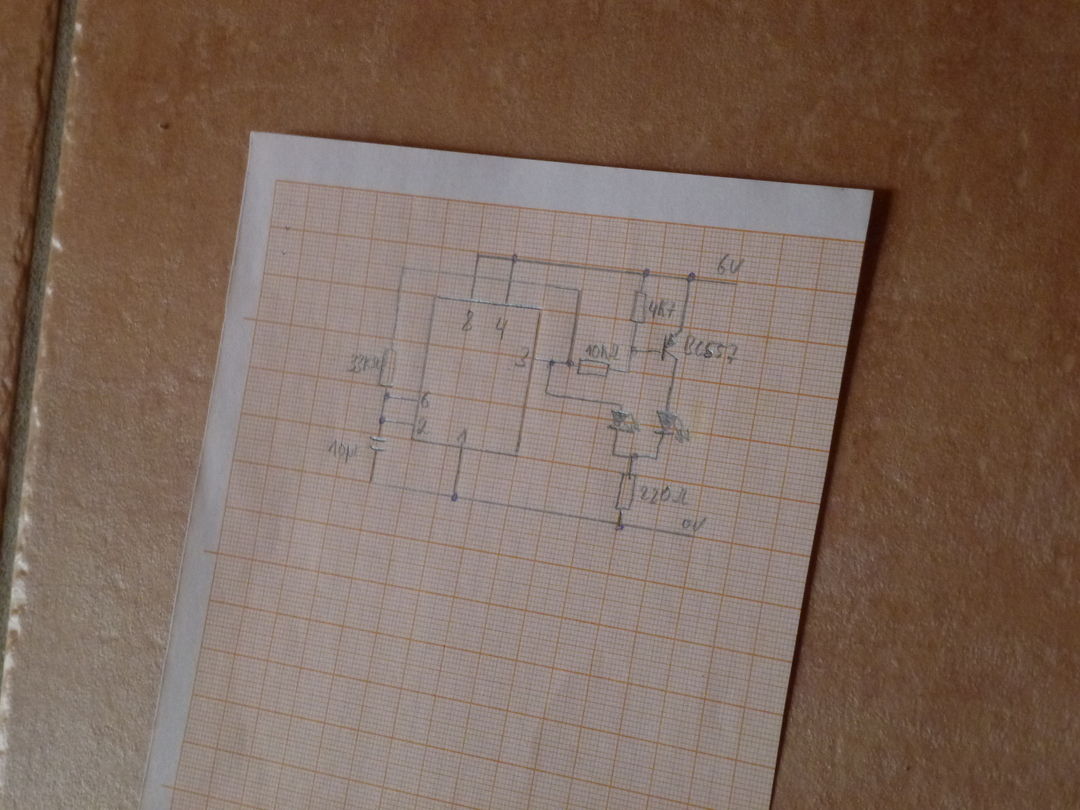capacitor.unpolarized: (367, 434, 389, 454)
crossover: (504, 275, 519, 287), (468, 271, 484, 282)
diode.light_emitting: (653, 410, 691, 444), (605, 409, 641, 435)
integrated_cricuit.ne555: (410, 295, 543, 458)
junction: (611, 519, 627, 533), (508, 253, 522, 266), (685, 271, 698, 284), (627, 344, 640, 357), (640, 266, 652, 279), (448, 491, 460, 504), (564, 357, 576, 369), (627, 450, 639, 462), (623, 365, 635, 376), (546, 356, 557, 368), (377, 414, 388, 426), (575, 285, 587, 295), (651, 452, 661, 464), (366, 476, 376, 488), (543, 387, 552, 398), (474, 251, 483, 262), (382, 390, 391, 401), (609, 450, 618, 460), (399, 264, 409, 273), (616, 400, 626, 408)
resistor: (614, 471, 637, 513), (377, 347, 399, 389), (627, 289, 649, 326), (575, 358, 612, 379)
terminal: (732, 279, 741, 289), (686, 532, 696, 541)
text: (684, 334, 739, 366), (639, 485, 690, 507), (327, 439, 361, 465), (715, 253, 746, 276), (347, 353, 380, 374), (584, 343, 621, 361), (649, 298, 677, 319), (512, 345, 531, 368), (680, 516, 707, 532), (460, 309, 476, 332), (495, 316, 510, 340), (455, 427, 471, 446), (415, 416, 430, 436), (418, 390, 432, 409)
transistor: (658, 328, 683, 363)
